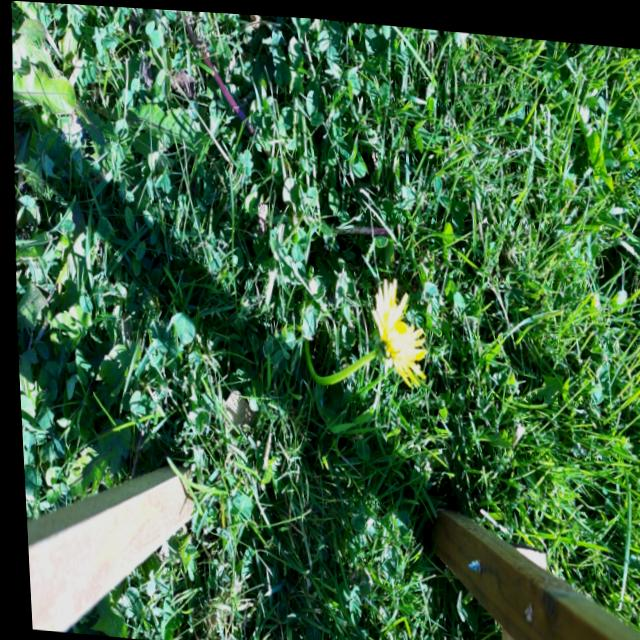base: (288, 321, 314, 357), (251, 124, 275, 163), (328, 207, 349, 241)
